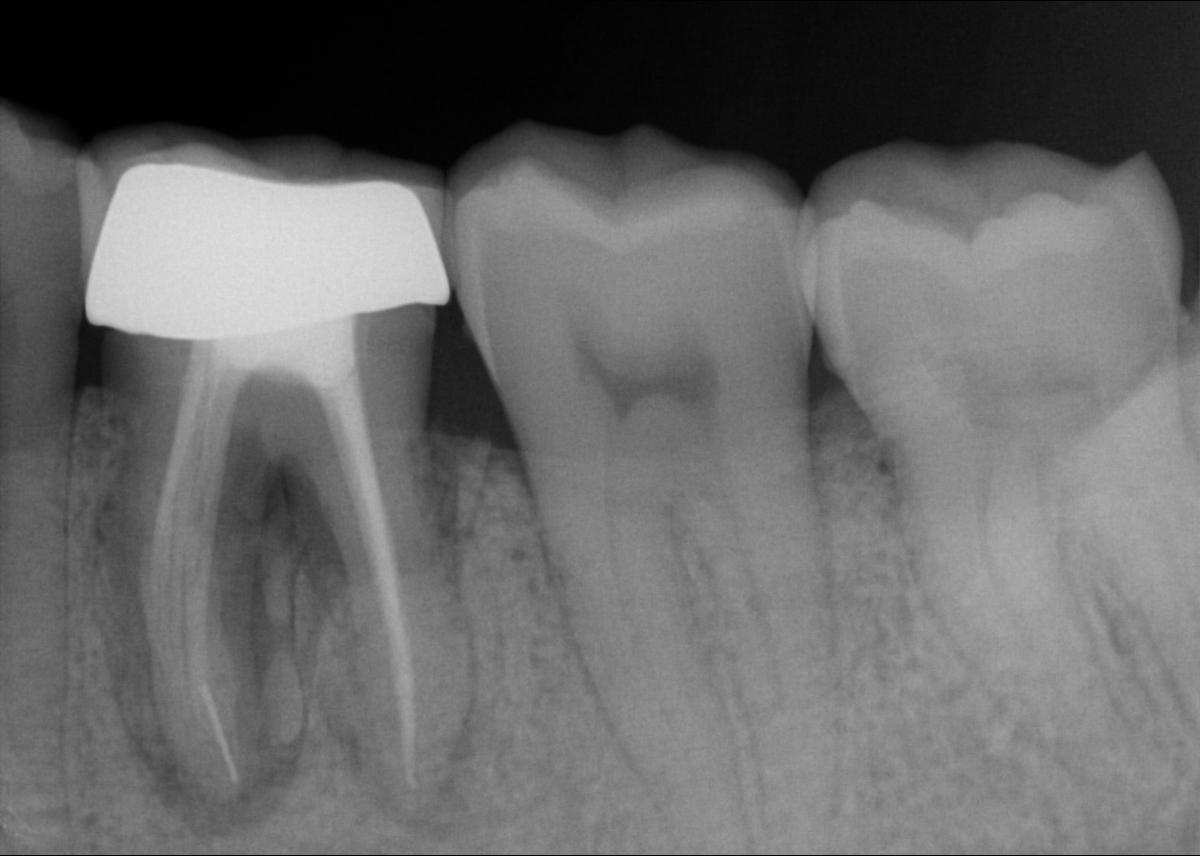Dental Caries: (92, 458, 485, 846)
